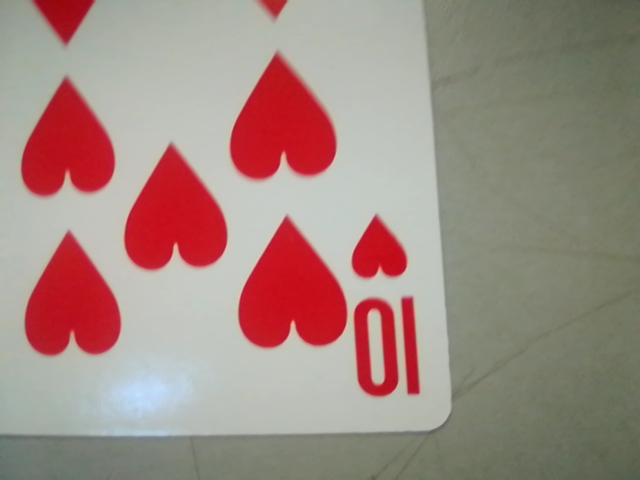hx 10: (341, 205, 438, 420)
